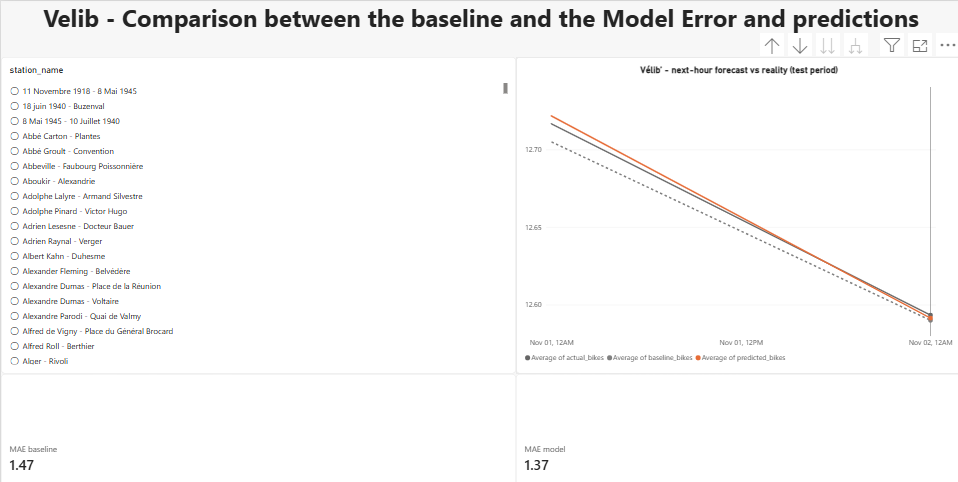

The page's visual inventory and layout, read from the dashboard file:
{"tool":"powerbi","page":{"name":"Forecast vs actual","canvas":[1920,1080],"ordinal":2},"visuals":[{"type":"listSlicer","fields":{"Values":["dim_stations.station_name"]},"box":[0,112.5,1030,632.5],"z":0},{"type":"lineChart","title":"Vélib’ - next-hour forecast vs reality (test period)","fields":{"Category":["public predictions_hourly.target_hour_utc.Variation.Date Hierarchy.Year","public predictions_hourly.target_hour_utc.Variation.Date Hierarchy.Quarter","public predictions_hourly.target_hour_utc.Variation.Date Hierarchy.Month","public predictions_hourly.target_hour_utc.Variation.Date Hierarchy.Day"],"Y":["Avg(public predictions_hourly.actual_bikes)","Avg(public predictions_hourly.baseline_bikes)","Avg(public predictions_hourly.predicted_bikes)"]},"box":[1030,112.5,890,632.5],"z":1000},{"type":"cardVisual","fields":{"Data":["public predictions_hourly.MAE baseline"]},"box":[0,745,1030,335],"z":1001},{"type":"cardVisual","fields":{"Data":["public predictions_hourly.MAE model"]},"box":[1030,745,890,335],"z":1002},{"type":"textbox","box":[0,0,1920,112.5],"z":1003}]}

Visuals, with their boxes on the page's 1920x1080 design canvas (x1, y1, x2, y2). These are canvas units, not pixel positions in the 958x482 screenshot, which may show the page scaled, cropped or inside an application window:
listSlicer - dim_stations.station_name: 0,112,1030,745
"Vélib’ - next-hour forecast vs reality (test period)" lineChart: 1030,112,1920,745
cardVisual - public predictions_hourly.MAE baseline: 0,745,1030,1080
cardVisual - public predictions_hourly.MAE model: 1030,745,1920,1080
textbox: 0,0,1920,112
